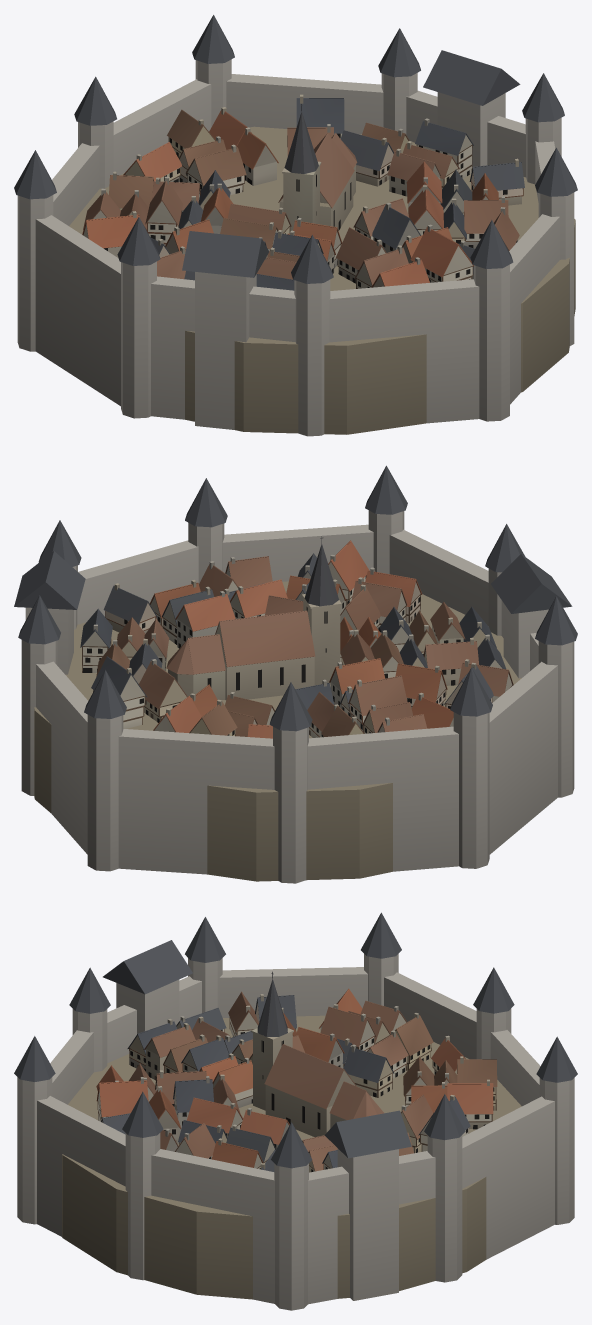
The model's file is town.glb.
3 renders of one model, top to bottom at view 1: azimuth 30°, elevation 25°; view 2: azimuth 150°, elevation 25°; view 3: azimuth 270°, elevation 25°, orthographic. The views are drawn at different scales.
Parts seen in each view (by area): view 1: town; view 2: town; view 3: town.
Part boxes in pixels (x1,y1,x2,y2): town: (14, 15, 577, 436); town: (14, 465, 577, 883); town: (14, 912, 577, 1310).
Bounding box in the file's own units: 2.17 × 0.9851 × 2.28.
